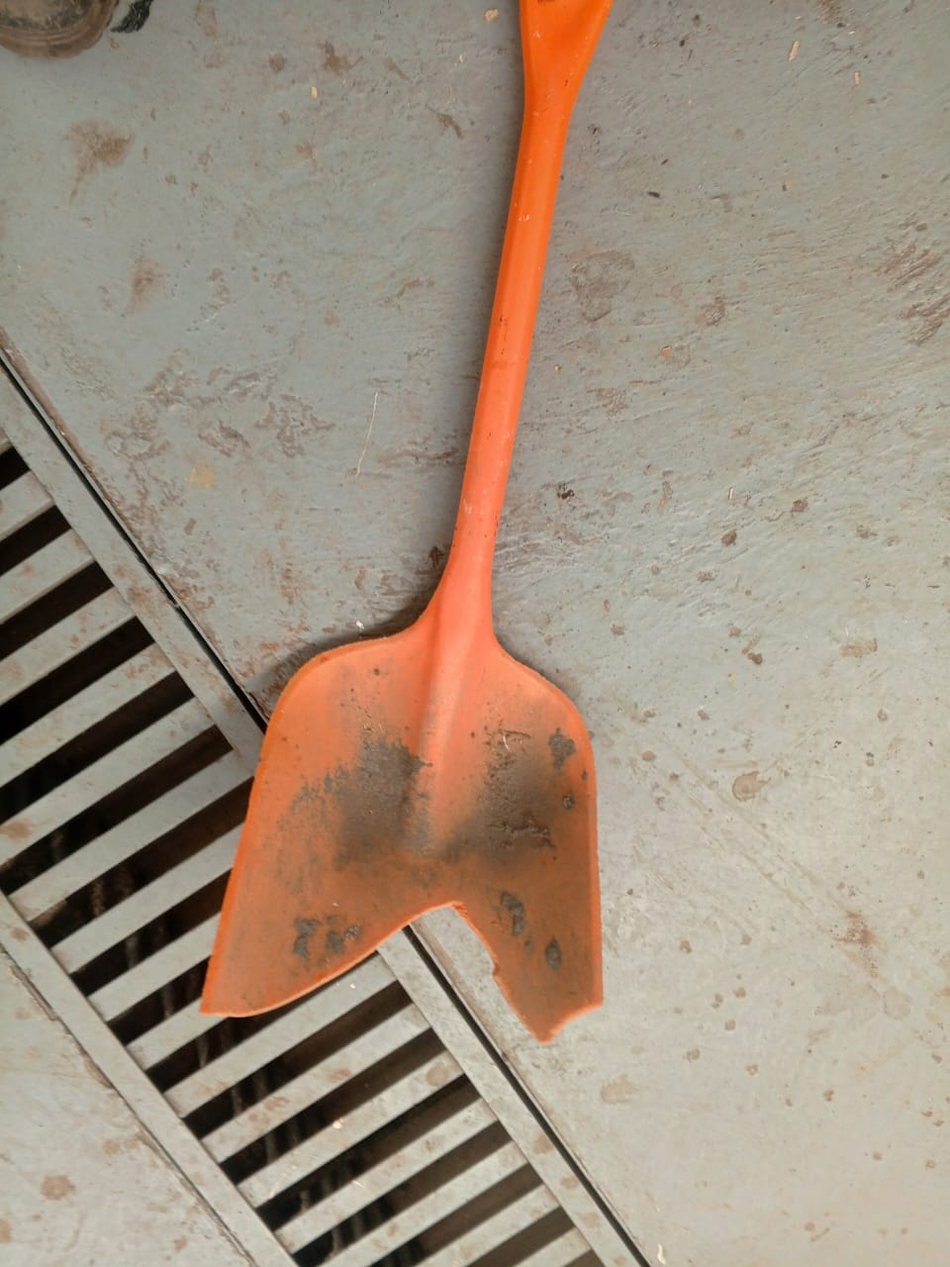Plastico: (201, 2, 604, 1043)
